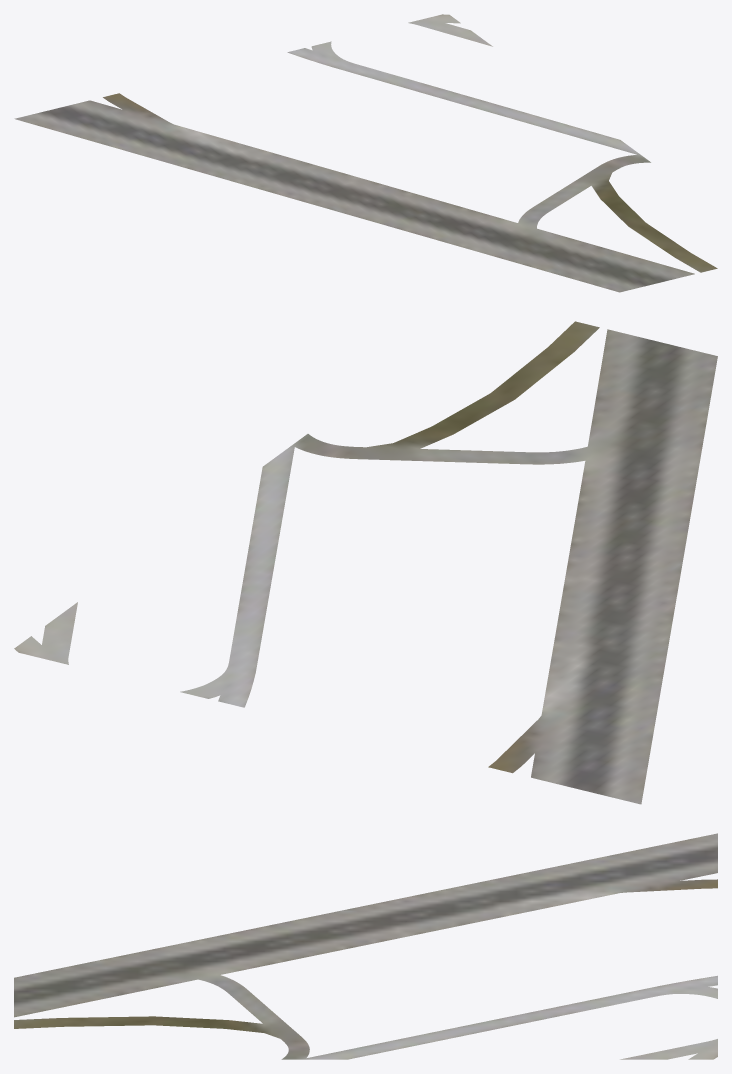
Rendered from LSZH_-1_1.glb.
3 views of the same model, one above another, from view 1: azimuth 30°, elevation 25°; view 2: azimuth 150°, elevation 25°; view 3: azimuth 270°, elevation 25° (orthographic). The views are drawn at different scales.
Parts seen in each view (by area): view 1: pavement_LSZH_pavement_5366_2515; view 2: pavement_LSZH_pavement_5366_2515; view 3: pavement_LSZH_pavement_5366_2515.
Part boxes in pixels (x1,y1,x2,y2): pavement_LSZH_pavement_5366_2515: [14, 14, 717, 292]; pavement_LSZH_pavement_5366_2515: [14, 321, 717, 804]; pavement_LSZH_pavement_5366_2515: [14, 833, 717, 1059].
Bounding box in the file's own units: 380 × 0.0976 × 500.
1 material, 1 textured.
